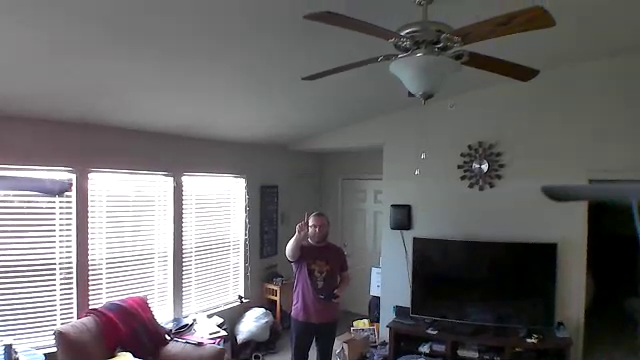up: (296, 211, 309, 235)
